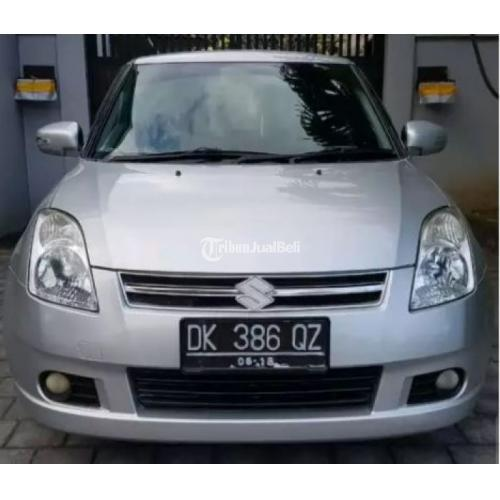plate: (181, 314, 333, 371)
